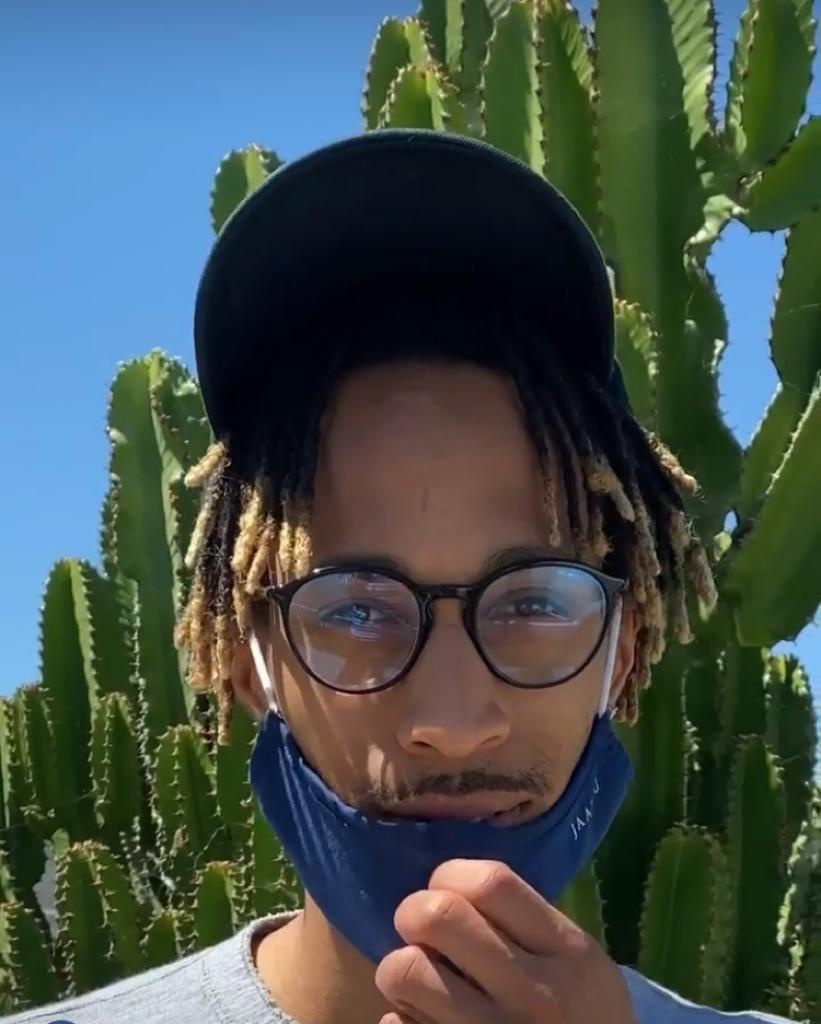mouth: (377, 786, 539, 824)
nose: (395, 715, 511, 759)
